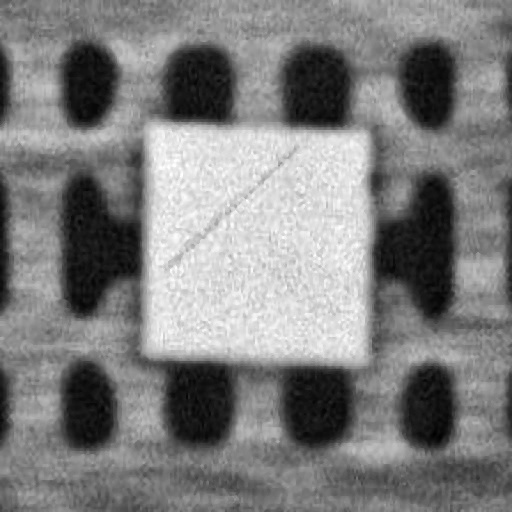DIE_CRACK: (247, 96, 443, 177)
